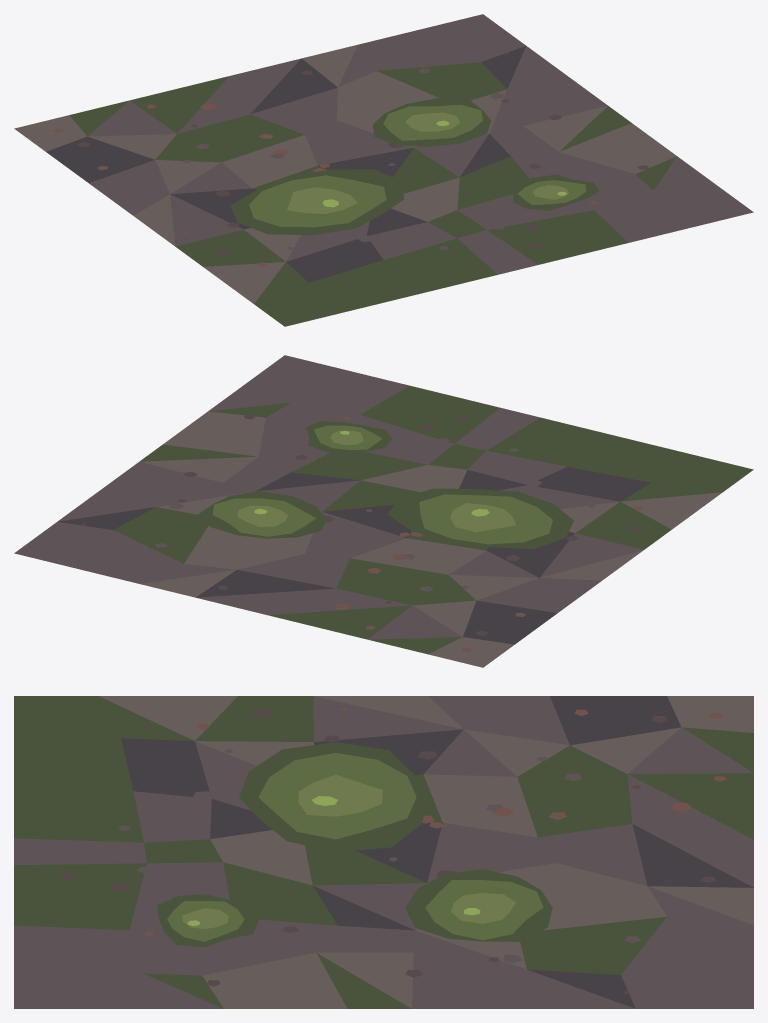
The model's file is 18_Scorched_ToxicStain.fbx.
3 renders of one model, top to bottom at view 1: azimuth 30°, elevation 25°; view 2: azimuth 150°, elevation 25°; view 3: azimuth 270°, elevation 25°, orthographic. The views are drawn at different scales.
Visible parts, largest first — view 1: 18_Scorched_ToxicStain; view 2: 18_Scorched_ToxicStain; view 3: 18_Scorched_ToxicStain.
Boxes of the visible parts, x1,y1,x2,y2 form: 18_Scorched_ToxicStain: [14, 14, 753, 326]; 18_Scorched_ToxicStain: [14, 355, 753, 667]; 18_Scorched_ToxicStain: [14, 696, 753, 1008].
Size of the model in its own units: 800 by 2 by 800.
1 material, 1 textured.
